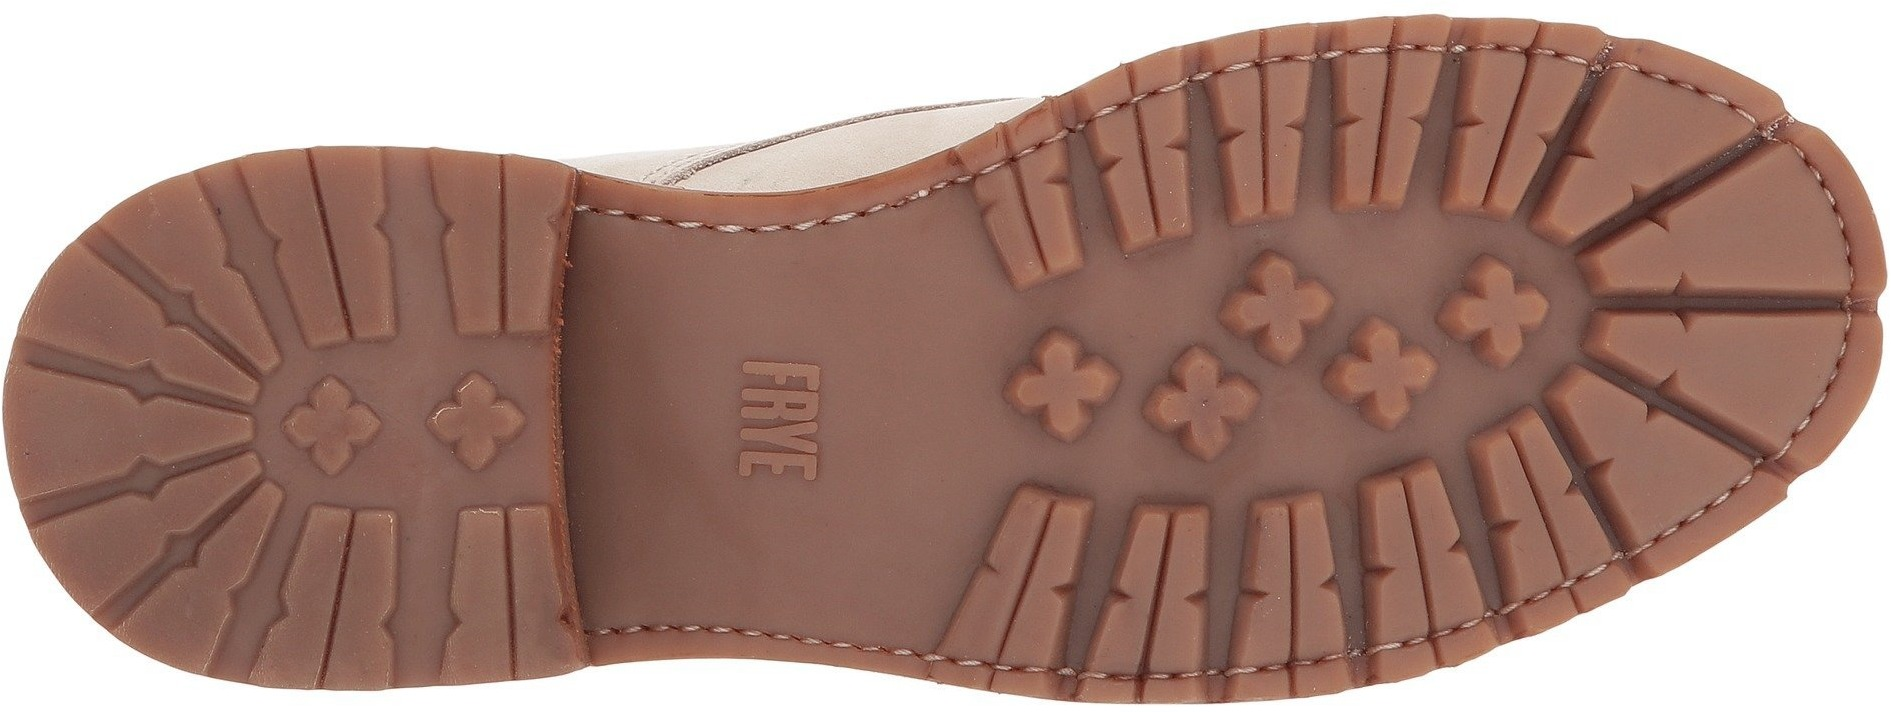exclude: (534, 29, 1024, 706), (500, 53, 1066, 203)
star: (1214, 257, 1388, 422), (1040, 298, 1202, 469), (1391, 240, 1548, 399), (423, 357, 545, 482), (283, 364, 392, 477)
text: (724, 364, 855, 478)
